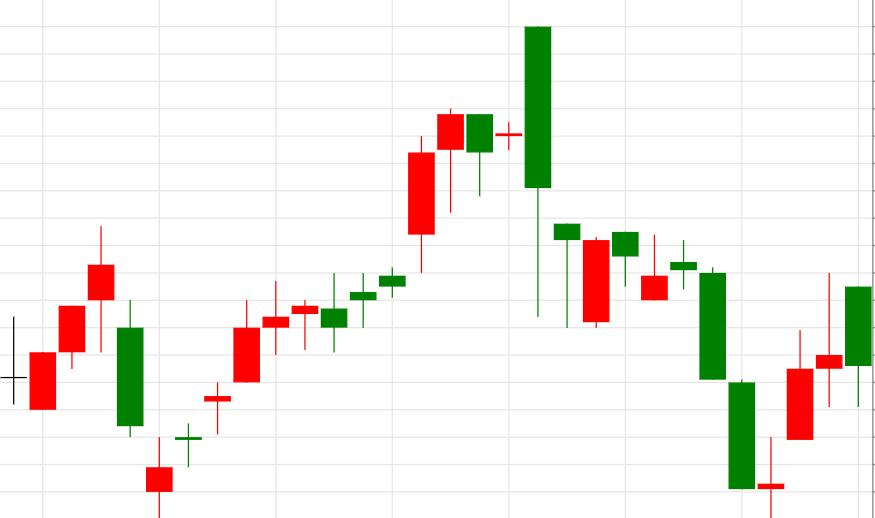hanging_man_fall: (203, 108, 465, 435)
morning_star_rise: (524, 26, 813, 518)
